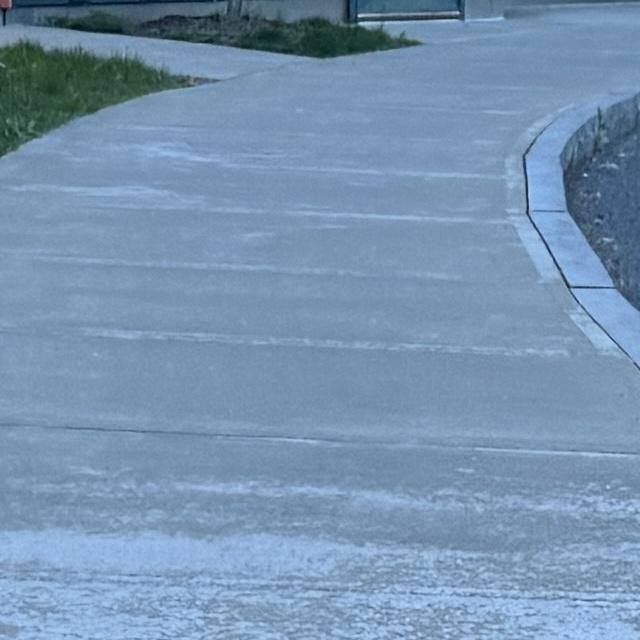curb: (525, 92, 639, 368)
